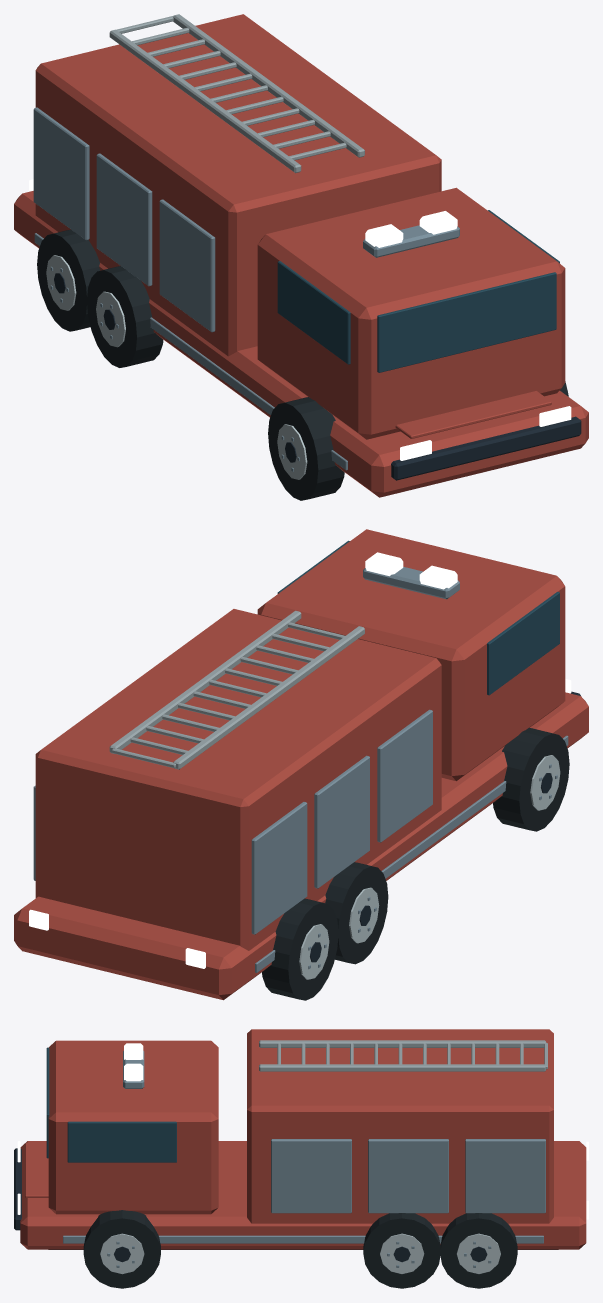
The model's file is road-fire-engine.lod0.glb.
The picture shows the model from 3 angles, top to bottom: view 1: azimuth 30°, elevation 25°; view 2: azimuth 150°, elevation 25°; view 3: azimuth 270°, elevation 25°; orthographic projection. The views are drawn at different scales.
Visible parts, largest first — view 1: road-fire-engine__body, road-fire-engine__wheel_steer_0_l, road-fire-engine__wheel_steer_2_l, road-fire-engine__wheel_steer_1_l; view 2: road-fire-engine__body, road-fire-engine__wheel_steer_0_l, road-fire-engine__wheel_steer_1_l, road-fire-engine__wheel_steer_2_l; view 3: road-fire-engine__body, road-fire-engine__wheel_steer_0_r, road-fire-engine__wheel_steer_2_r, road-fire-engine__wheel_steer_1_r.
Part boxes in pixels (x1,y1,x2,y2): road-fire-engine__body: [14, 14, 588, 497]; road-fire-engine__wheel_steer_0_l: [268, 397, 344, 500]; road-fire-engine__wheel_steer_2_l: [87, 266, 163, 367]; road-fire-engine__wheel_steer_1_l: [37, 229, 99, 331]; road-fire-engine__body: [14, 529, 588, 1000]; road-fire-engine__wheel_steer_0_l: [493, 727, 569, 831]; road-fire-engine__wheel_steer_1_l: [262, 898, 338, 1000]; road-fire-engine__wheel_steer_2_l: [325, 862, 388, 964]; road-fire-engine__body: [14, 1029, 588, 1249]; road-fire-engine__wheel_steer_0_r: [83, 1210, 160, 1288]; road-fire-engine__wheel_steer_2_r: [363, 1213, 440, 1288]; road-fire-engine__wheel_steer_1_r: [440, 1213, 517, 1288].
Bounding box in the file's own units: 2.85 × 2.57 × 7.11.
